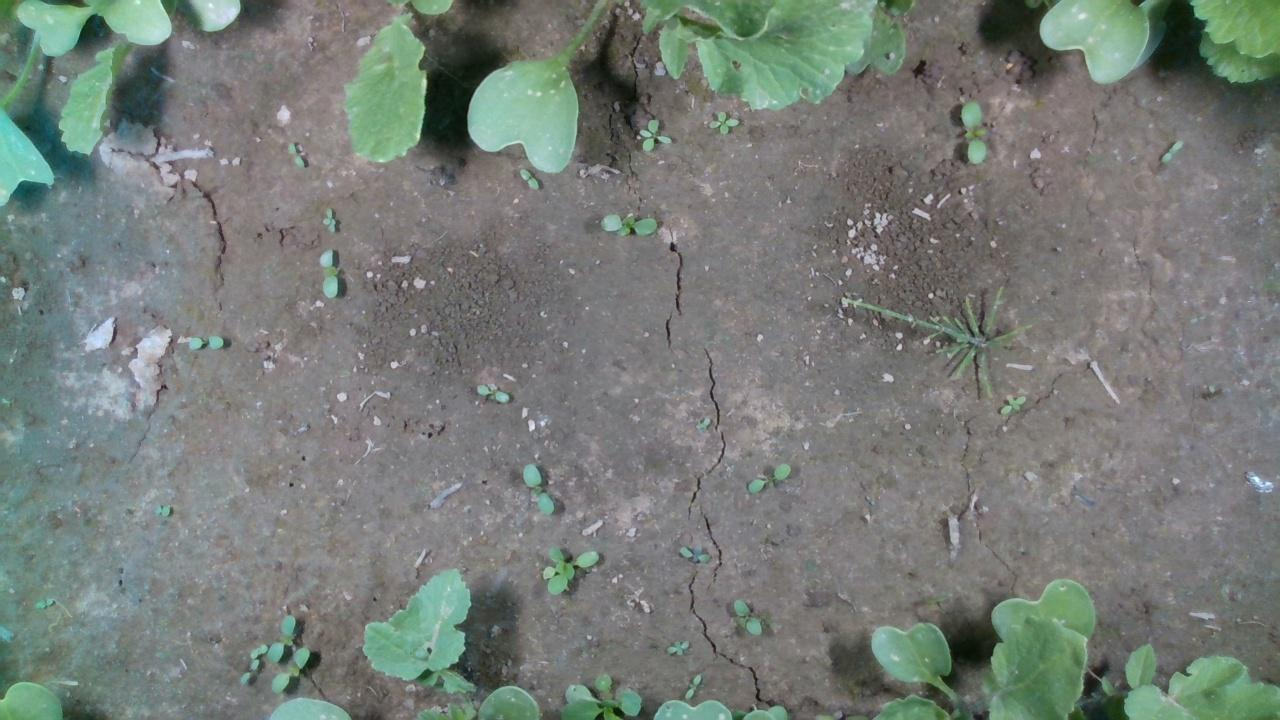weed: (539, 543, 599, 594), (521, 461, 554, 516), (960, 98, 986, 164), (746, 461, 792, 495), (597, 212, 658, 237), (730, 597, 762, 635), (316, 247, 339, 297), (706, 107, 740, 135), (184, 332, 223, 351), (473, 383, 509, 402), (678, 543, 710, 563), (239, 656, 259, 684), (1000, 393, 1026, 414), (518, 167, 539, 191), (684, 671, 702, 699), (287, 141, 305, 166), (319, 206, 335, 233), (665, 638, 688, 655)
